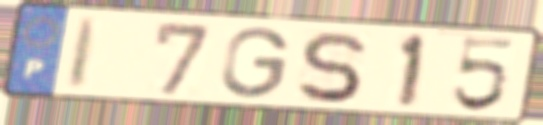1: (392, 31, 428, 110)
5: (448, 34, 516, 115)
7: (150, 18, 216, 98)
G: (218, 25, 293, 101)
I: (64, 15, 105, 93)
S: (294, 28, 368, 105)
